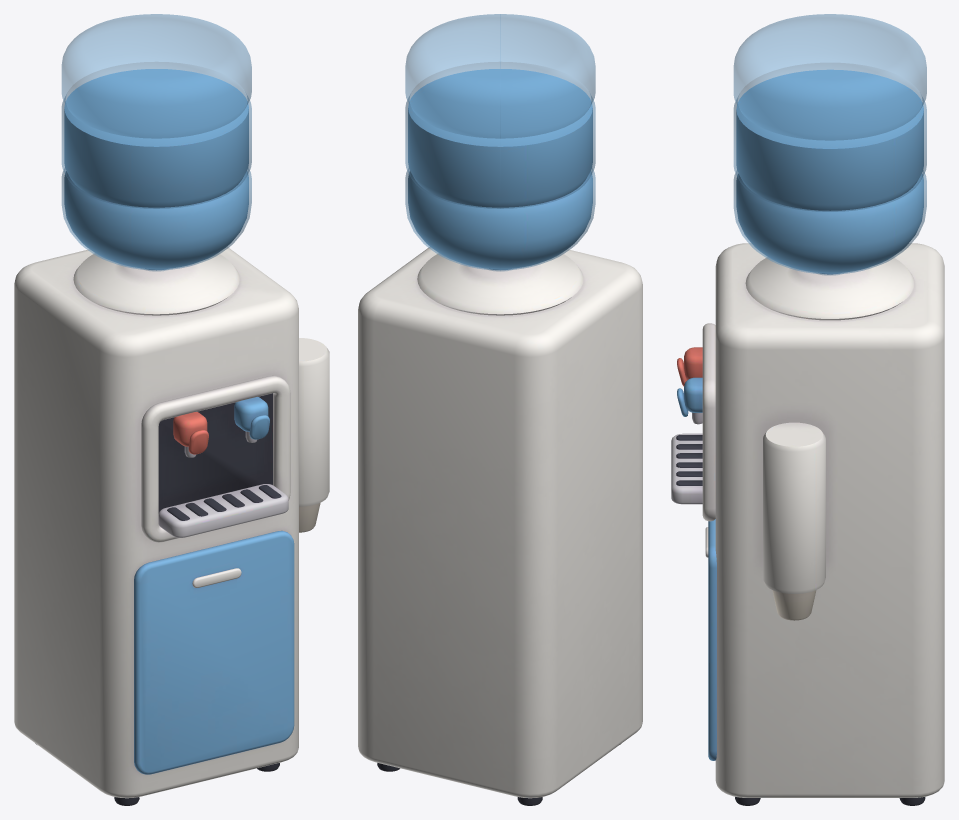
File: water-cooler.glb
3 renders of one model, left to right at view 1: azimuth 30°, elevation 25°; view 2: azimuth 150°, elevation 25°; view 3: azimuth 270°, elevation 25°, orthographic.
Visible parts, largest first — view 1: water-cooler_body, water-cooler_bottle_glass; view 2: water-cooler_body, water-cooler_bottle_glass; view 3: water-cooler_body, water-cooler_bottle_glass.
Part boxes in pixels (<box>): water-cooler_body: <box>14,69,329,805</box>; water-cooler_bottle_glass: <box>61,14,251,271</box>; water-cooler_body: <box>358,69,642,805</box>; water-cooler_bottle_glass: <box>405,14,595,271</box>; water-cooler_body: <box>671,69,944,805</box>; water-cooler_bottle_glass: <box>733,14,926,275</box>.
Size of the model in its own units: 0.408 by 1.11 by 0.382.
Materials: 2 (1 with a texture image).
